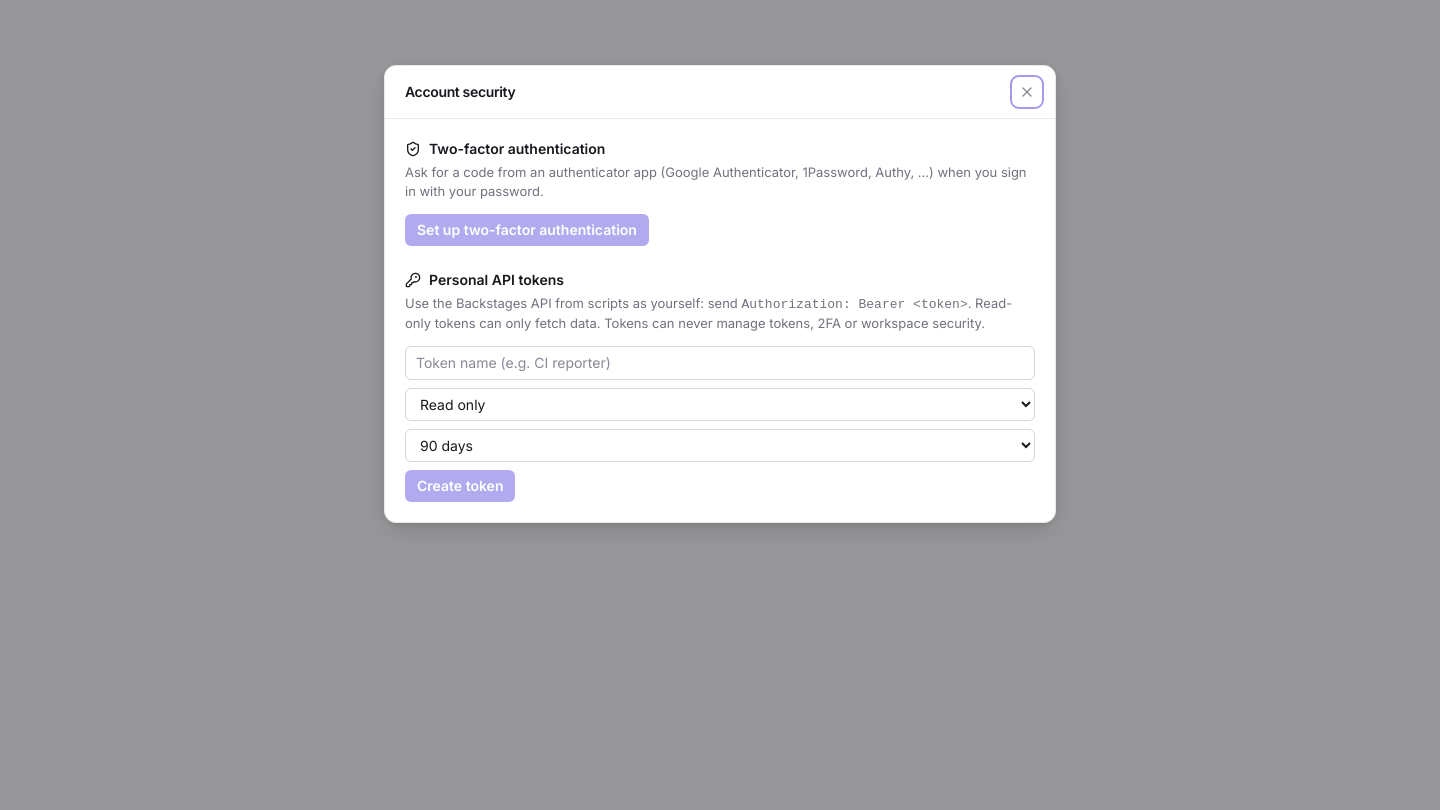
Test: AccountSecurityDialog › creates an API token and shows it once
The image size is (1440, 810).
Expected: the button with test id "token-create" is disabled, [405,470,516,502]
In the field with test id "token-name": (720, 363) [405,346,1035,380], type "CI"
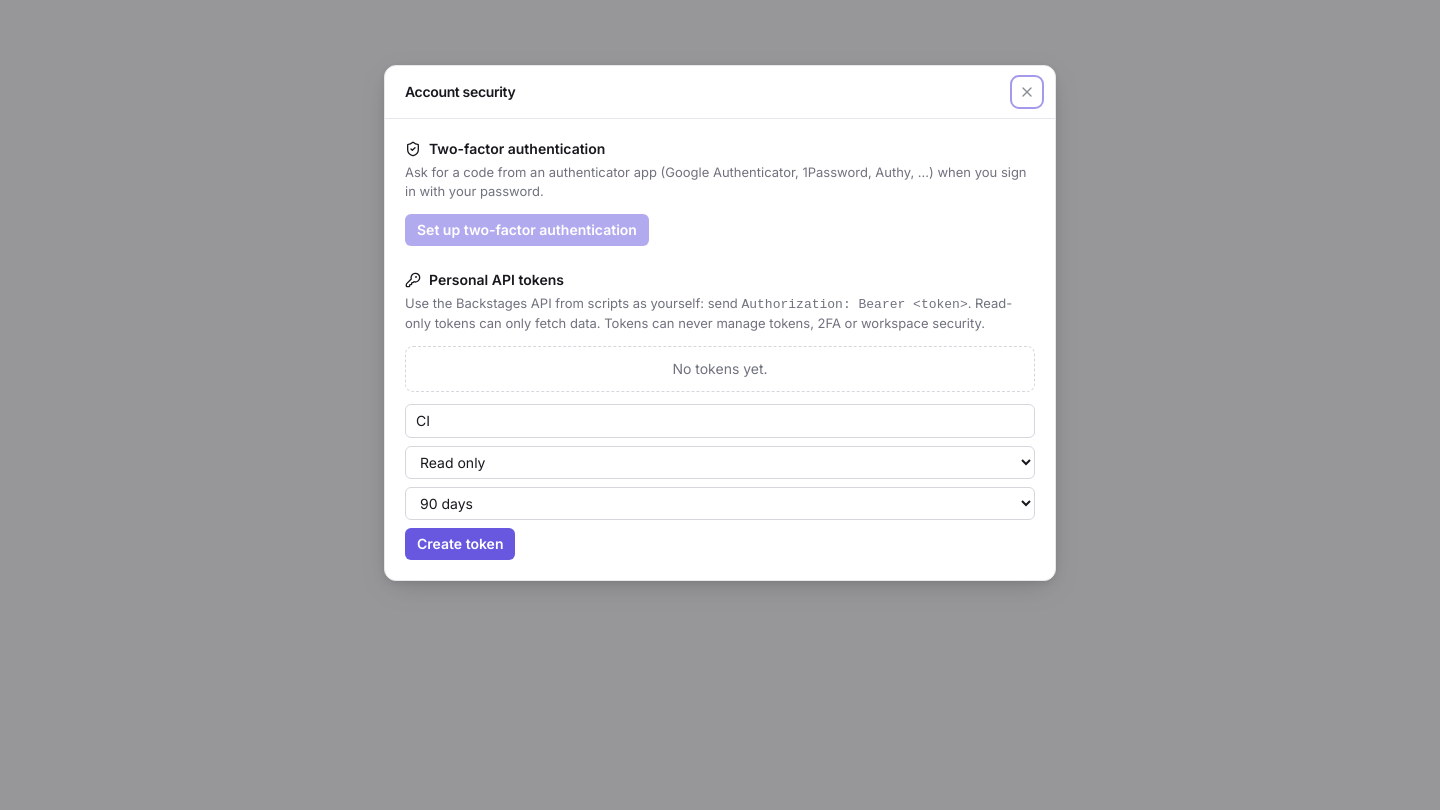
Click the button with test id "token-create": (460, 544) [405,528,516,560]
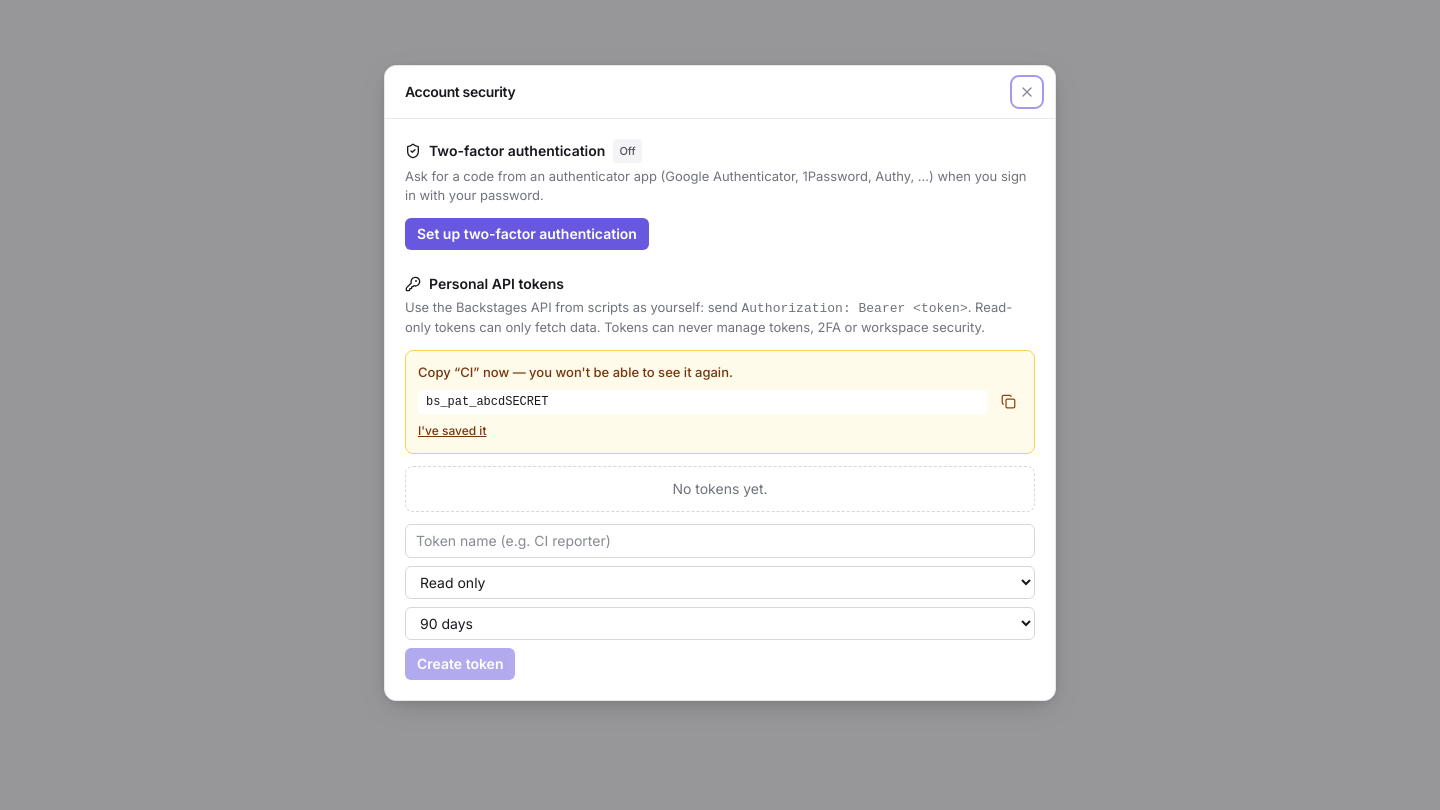
Result: the text with test id "one-time-secret" reads "bs_pat_abcdSECRET" at [426,395,548,409]
